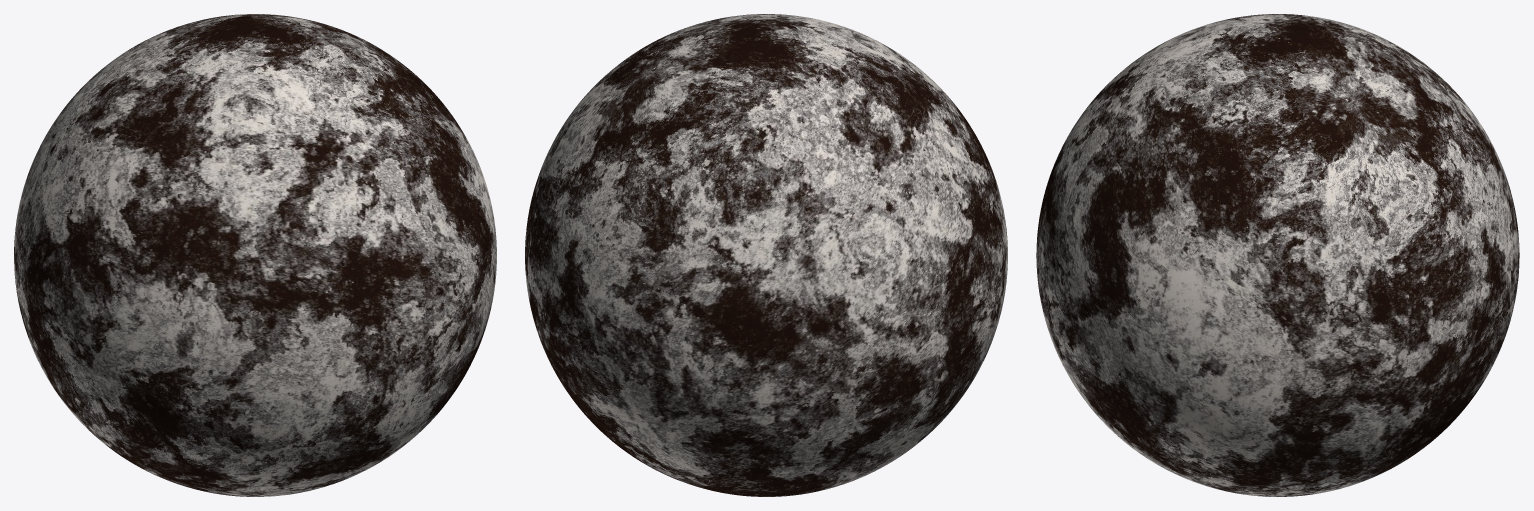
File: icyPlanet.glb
The picture shows the model from 3 angles, left to right: view 1: azimuth 30°, elevation 25°; view 2: azimuth 150°, elevation 25°; view 3: azimuth 270°, elevation 25°; orthographic projection.
Visible parts, largest first — view 1: IcePlanet.001; view 2: IcePlanet.001; view 3: IcePlanet.001.
Boxes of the visible parts, x1,y1,x2,y2 form: IcePlanet.001: (14,14,496,496); IcePlanet.001: (525,14,1007,496); IcePlanet.001: (1036,14,1519,496).
Size of the model in its own units: 4 by 4 by 4.
Materials: 1 (1 with a texture image).
